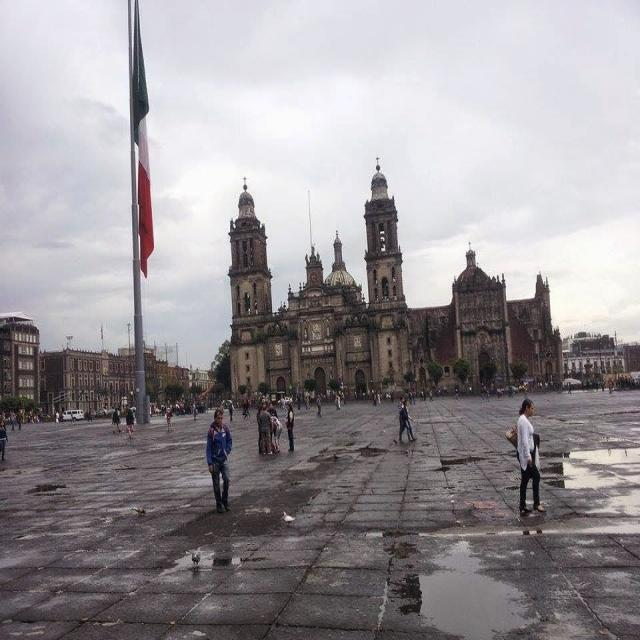body: (0, 365, 639, 435), (502, 397, 548, 518), (204, 408, 235, 515), (206, 544, 237, 573), (257, 402, 273, 455), (397, 395, 414, 441), (266, 401, 280, 452), (267, 411, 283, 453), (401, 398, 416, 442), (285, 402, 296, 452), (0, 419, 9, 462), (125, 408, 135, 440), (111, 407, 122, 435), (521, 526, 544, 538), (166, 406, 173, 432), (316, 394, 322, 418)
